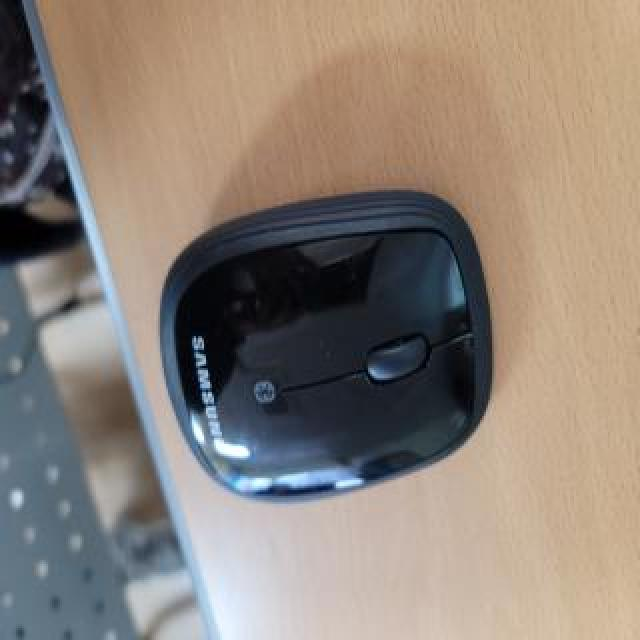mouse: (164, 165, 510, 511)
